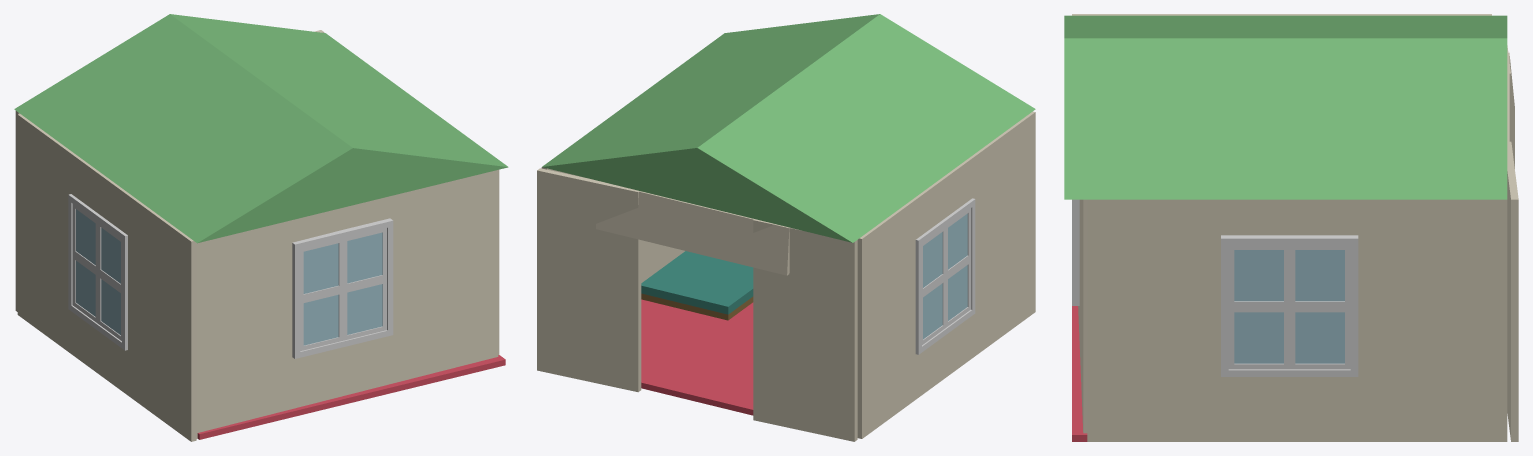
The model's file is Housefora-framethingy (2).glb.
3 views of the same model, side by side, from view 1: azimuth 30°, elevation 25°; view 2: azimuth 150°, elevation 25°; view 3: azimuth 270°, elevation 25° (orthographic). The views are drawn at different scales.
Parts seen in each view (by area): view 1: Mesh_Mesh_head_geo.001_lambert2SG.001; view 2: Mesh_Mesh_head_geo.001_lambert2SG.001; view 3: Mesh_Mesh_head_geo.001_lambert2SG.001.
Part boxes in pixels (x1,y1,x2,y2): Mesh_Mesh_head_geo.001_lambert2SG.001: [14, 14, 508, 441]; Mesh_Mesh_head_geo.001_lambert2SG.001: [537, 14, 1035, 441]; Mesh_Mesh_head_geo.001_lambert2SG.001: [1064, 14, 1518, 441].
Size of the model in its own units: 0.0596 by 0.045 by 0.0595.
